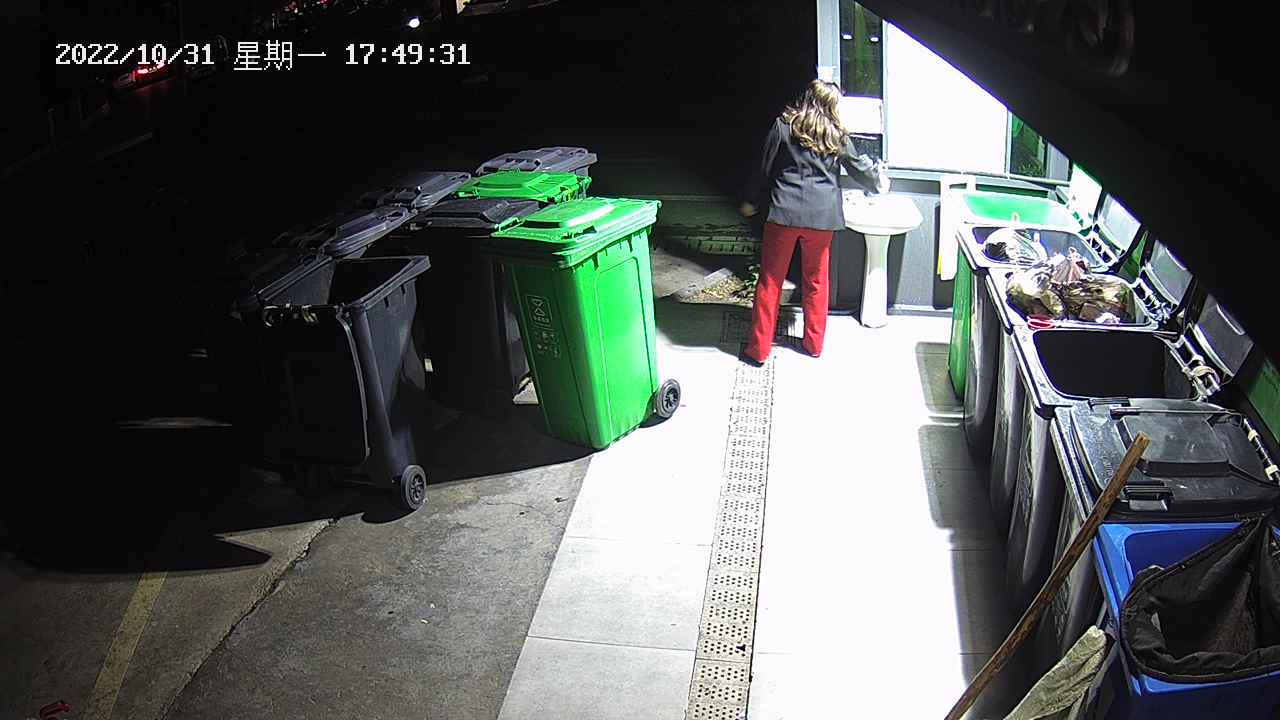person: (738, 78, 882, 367)
